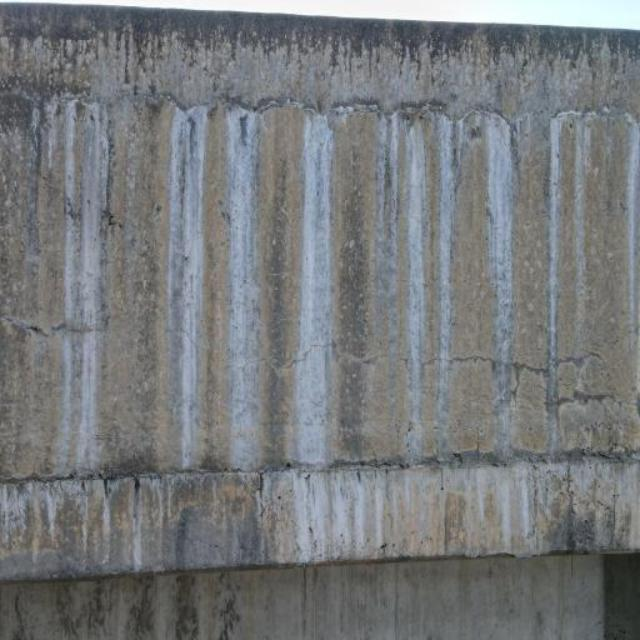D01: (54, 98, 109, 469), (298, 110, 333, 469), (226, 110, 261, 469), (486, 114, 517, 457), (182, 106, 209, 469), (546, 114, 565, 400)
